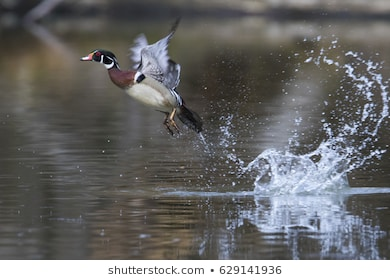duck: (62, 11, 222, 158)
